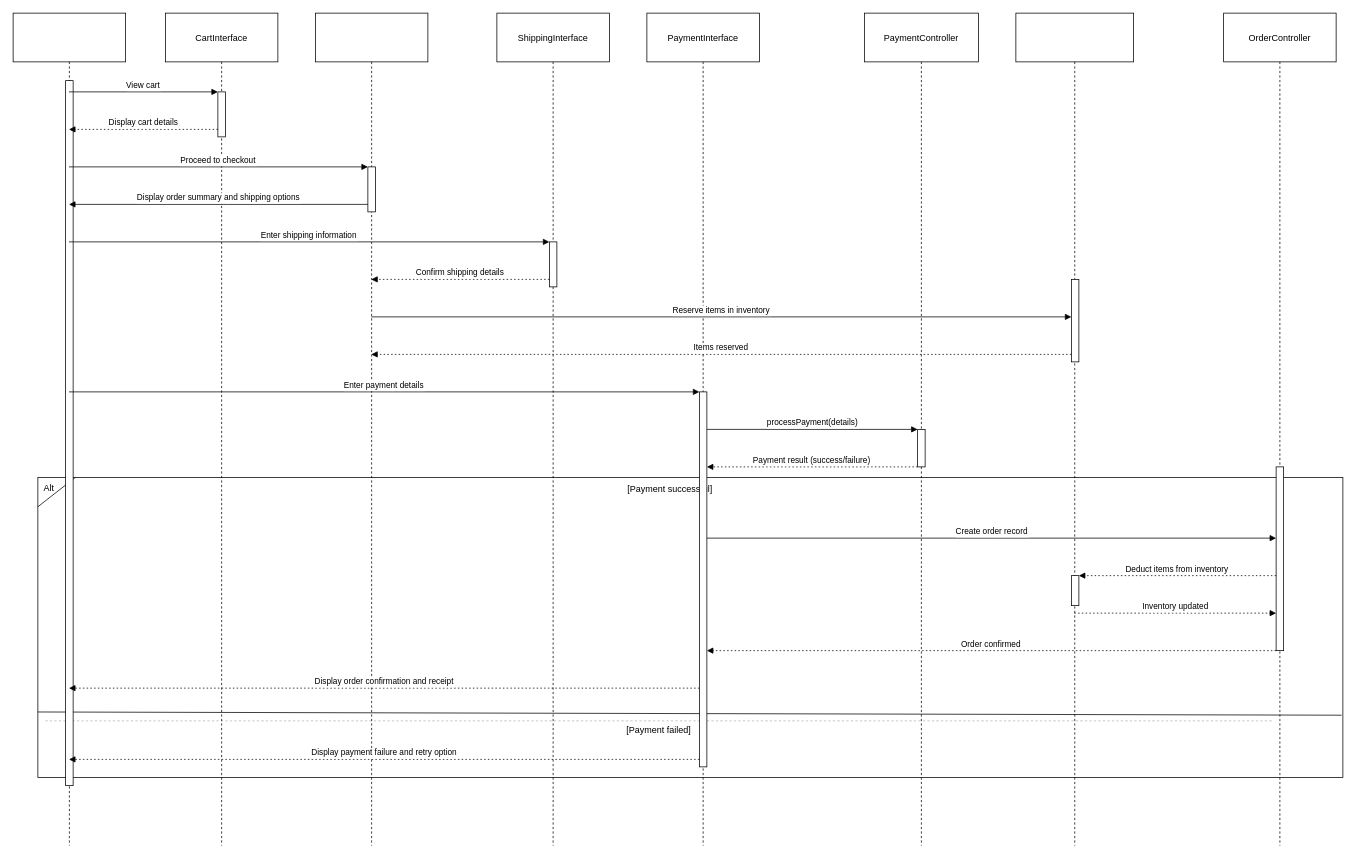
Some shapes in this 1356 by 859 pixel diagram are drawn without their labels. Each missing label, with the box of its shape:
Customer: (12, 12, 126, 846)
InventoryController: (1015, 12, 1134, 846)
OrderInterface: (315, 12, 428, 846)
